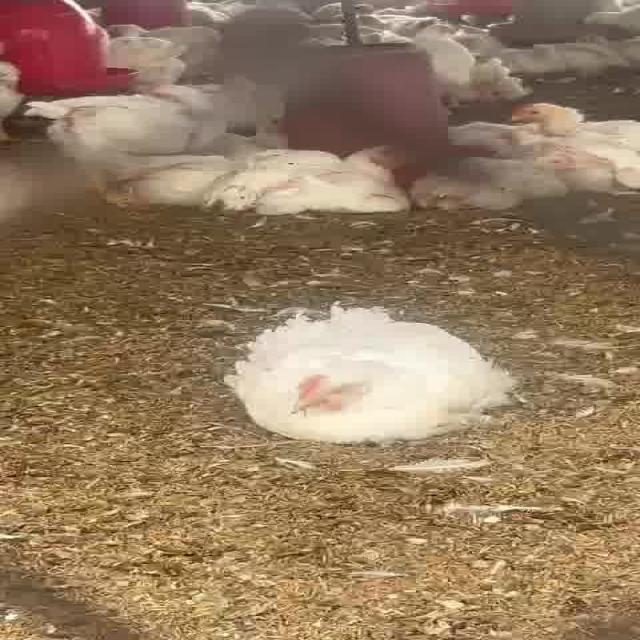AbNormal: (232, 307, 518, 442), (238, 140, 412, 218), (436, 150, 579, 208), (516, 97, 640, 148)
